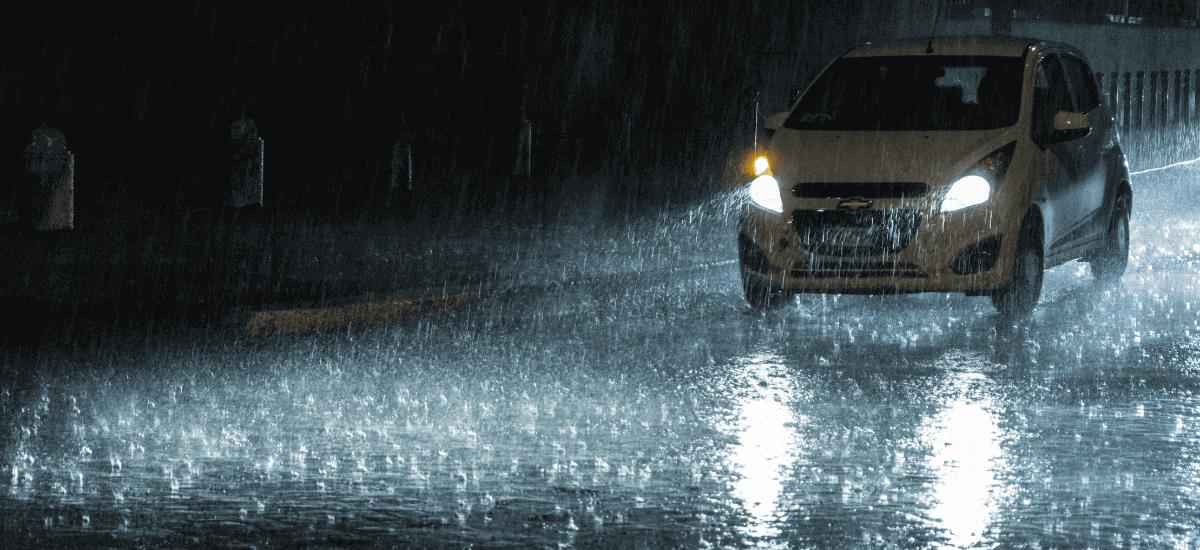car: (738, 36, 1133, 317)
